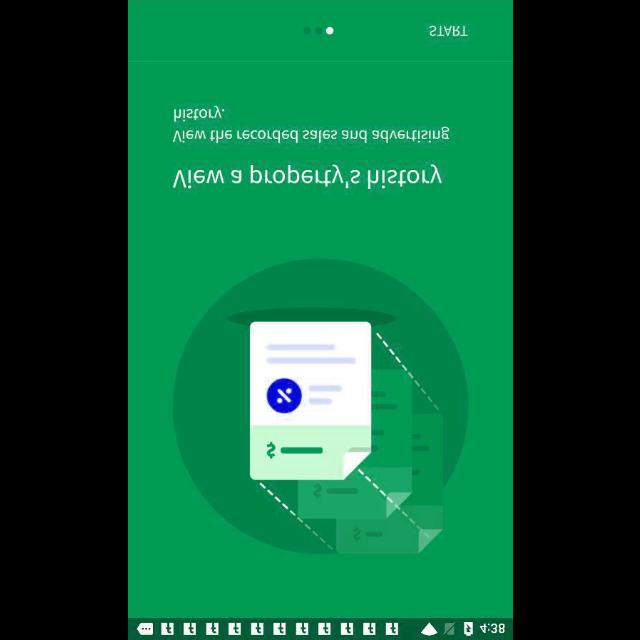image: (171, 259, 467, 553)
pageindicator: (302, 25, 334, 35)
text: (172, 105, 450, 143), (172, 164, 442, 188), (428, 25, 468, 37)
uppertaskbar: (128, 617, 512, 639)
